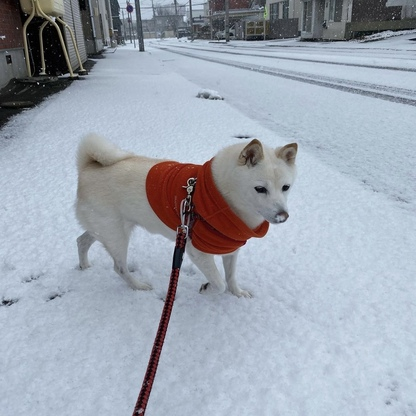shiba: (64, 124, 306, 307)
